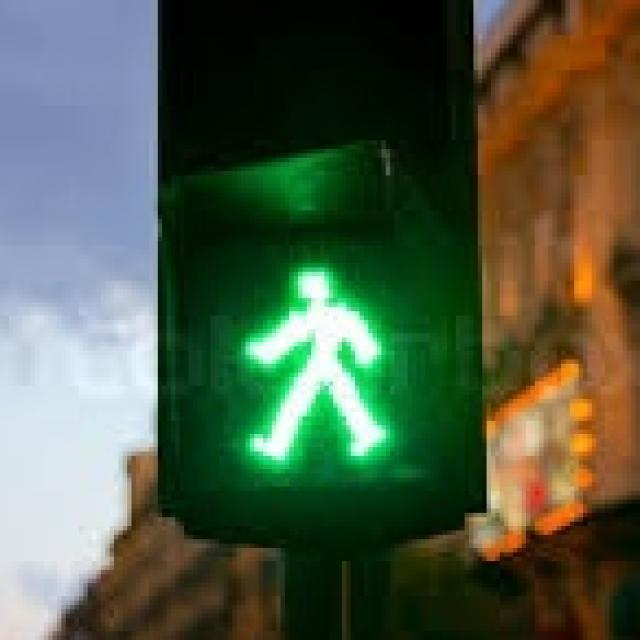green_light: (197, 228, 425, 487)
